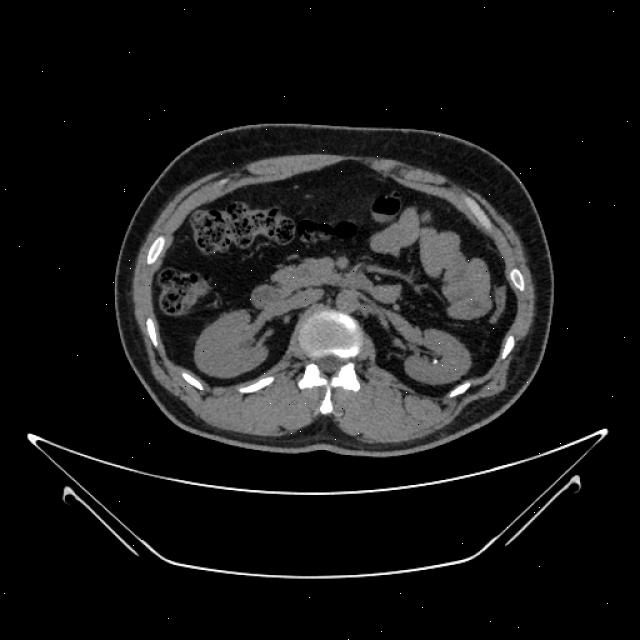kidneystone: (432, 359, 440, 364)
